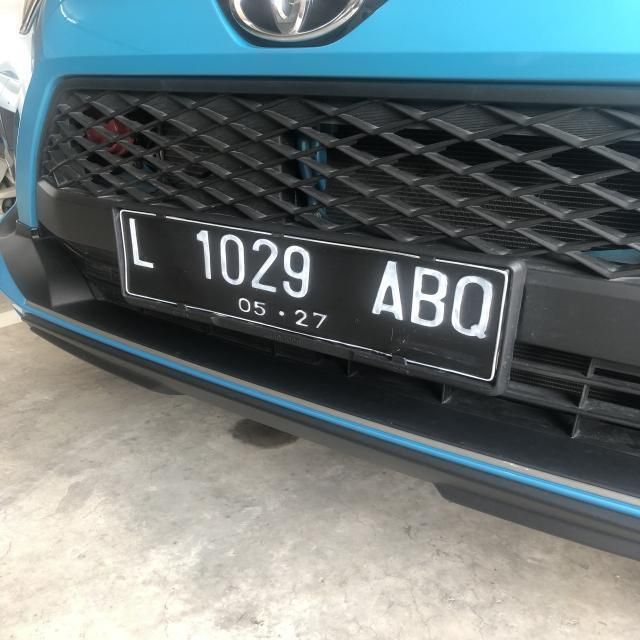0: (218, 234, 247, 286)
1: (195, 228, 212, 284)
2: (250, 235, 281, 293)
9: (280, 242, 314, 300)
A: (371, 256, 408, 325)
B: (408, 260, 450, 330)
L: (125, 214, 156, 269)
Q: (451, 272, 496, 344)
